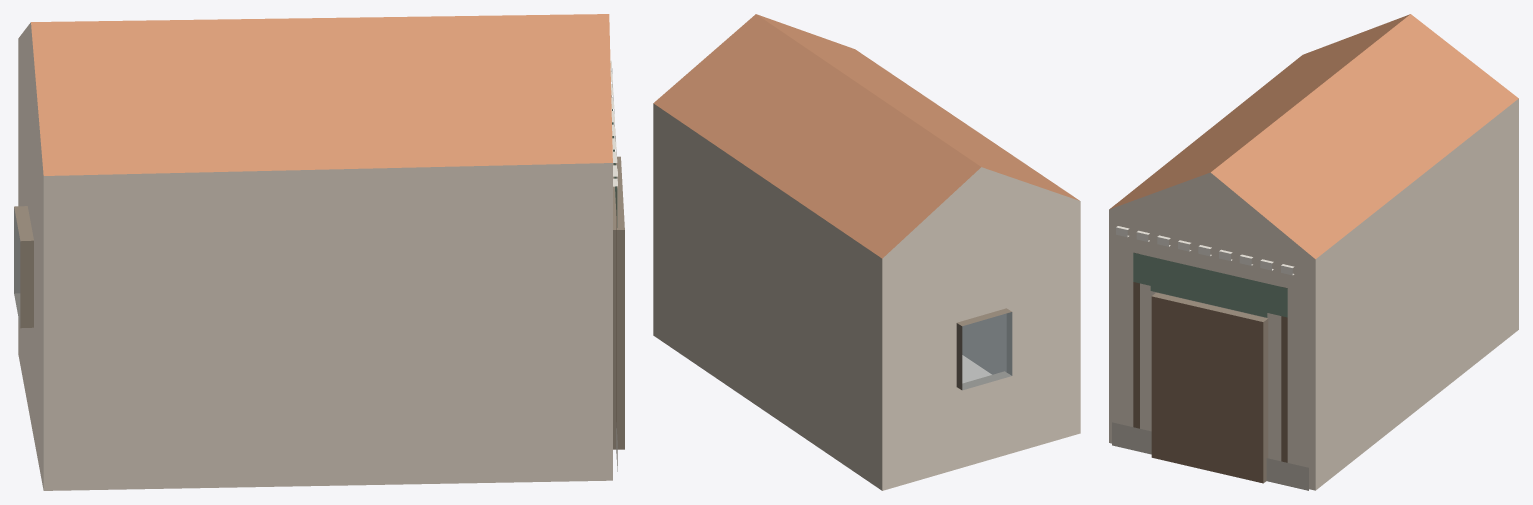
3 views of the same model, side by side, from view 1: azimuth 30°, elevation 25°; view 2: azimuth 150°, elevation 25°; view 3: azimuth 270°, elevation 25° (orthographic). The views are drawn at different scales.
Parts seen in each view (by area): view 1: E-8; view 2: E-8; view 3: E-8.
Part boxes in pixels (x1,y1,x2,y2): E-8: (14,14,624,490); E-8: (653,14,1080,490); E-8: (1109,14,1518,490).
Bounding box in the file's own units: 7.22 × 4.83 × 6.1.
